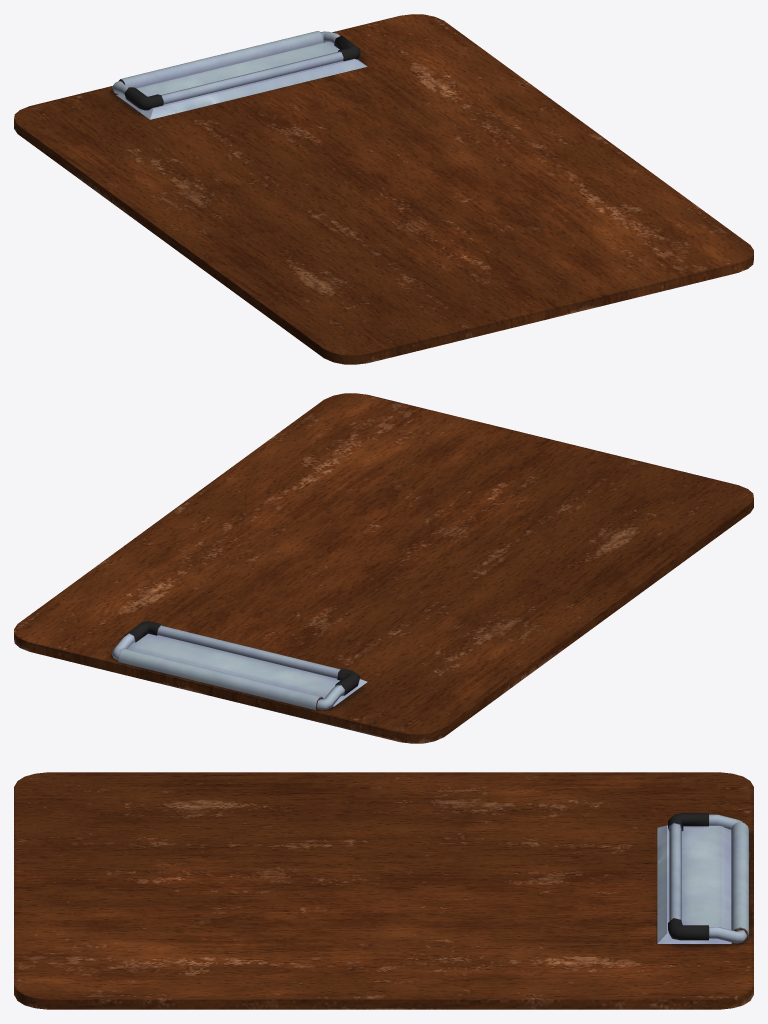
The model's file is SM_Clipboard_02.FBX.
3 renders of one model, top to bottom at view 1: azimuth 30°, elevation 25°; view 2: azimuth 150°, elevation 25°; view 3: azimuth 270°, elevation 25°, orthographic. The views are drawn at different scales.
Visible parts, largest first — view 1: Clipboard_02; view 2: Clipboard_02; view 3: Clipboard_02.
Part boxes in pixels (x1,y1,x2,y2): Clipboard_02: (14, 14, 753, 364); Clipboard_02: (14, 393, 753, 743); Clipboard_02: (14, 772, 753, 1009).
Bounding box in the file's own units: 24 × 1.29 × 33.
